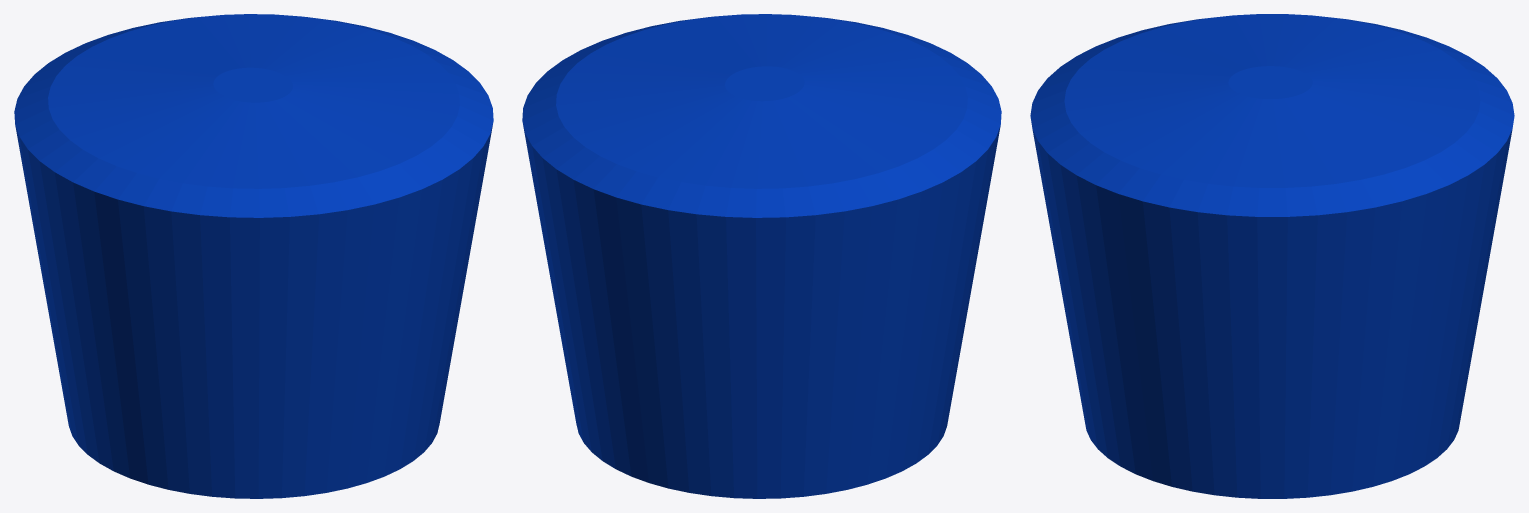
Rendered from tanque.FBX.
3 views of the same model, side by side, from view 1: azimuth 30°, elevation 25°; view 2: azimuth 150°, elevation 25°; view 3: azimuth 270°, elevation 25° (orthographic).
Visible parts, largest first — view 1: Cilindro.001; view 2: Cilindro.001; view 3: Cilindro.001.
Boxes of the visible parts, box(x1,y1,x2,y2) form: Cilindro.001: box(14, 14, 493, 498); Cilindro.001: box(522, 14, 1001, 498); Cilindro.001: box(1030, 14, 1514, 498).
Bounding box in the file's own units: 259 × 201 × 262.
